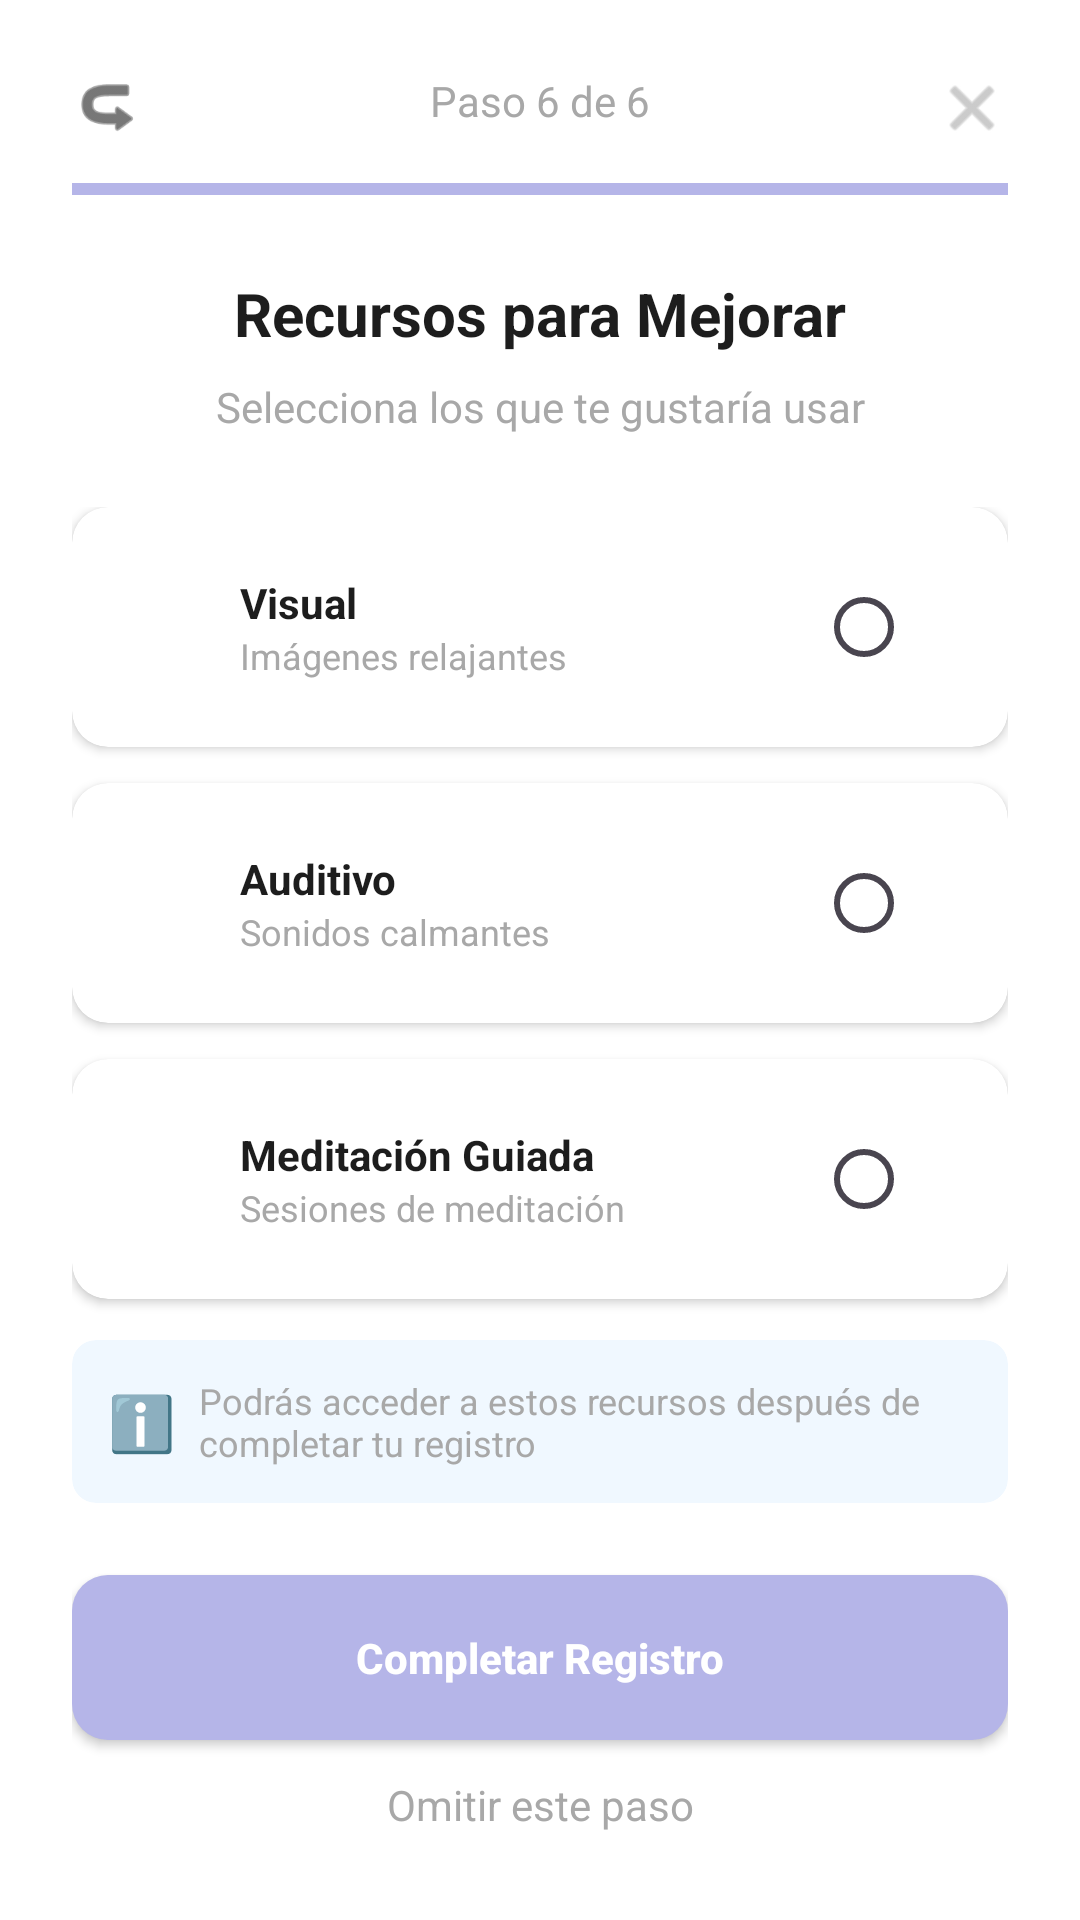

Where to tap for icons on this 1080x1920 app screen, as (x=x, y=y):
close clear cancel: (x=972, y=108)
